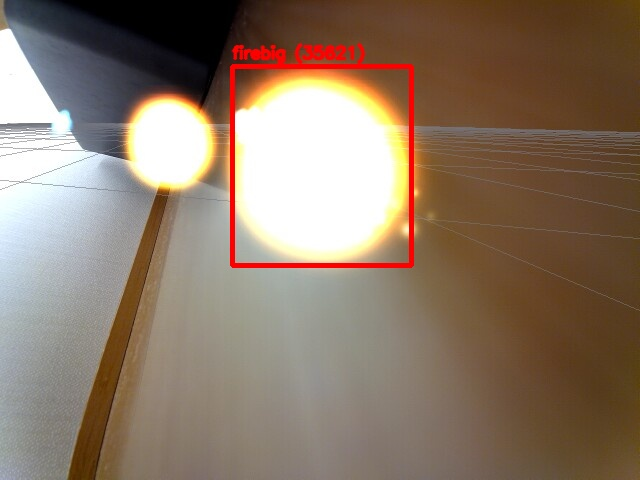firebig: (232, 66, 411, 265)
